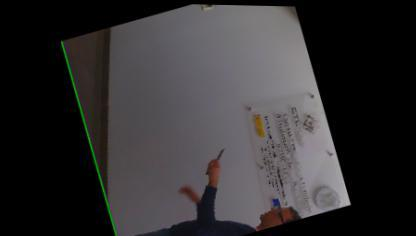knife: (198, 142, 234, 174)
